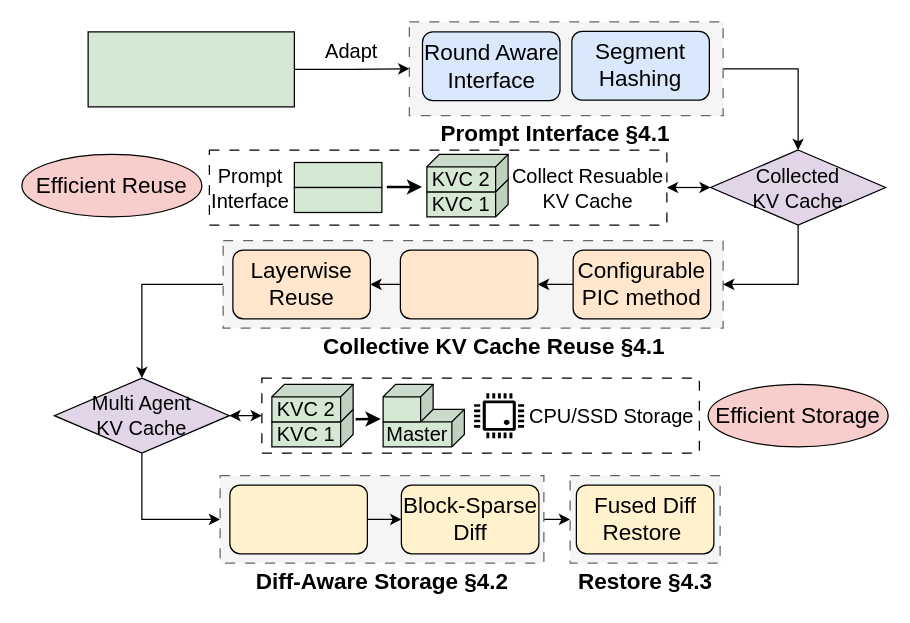
The diagram is 910 pixels wide and 623 high, and some of its shapes have lost their labels. The centre of each missing label's shape, as x and y in pixels:
All-Gather Agent Application: (x=190, y=69)
Batch Recompute: (x=468, y=284)
Diff: (x=407, y=402)
Diff Analysis: (x=298, y=519)
Prompt 1: (x=337, y=174)
Prompt 2: (x=337, y=199)
